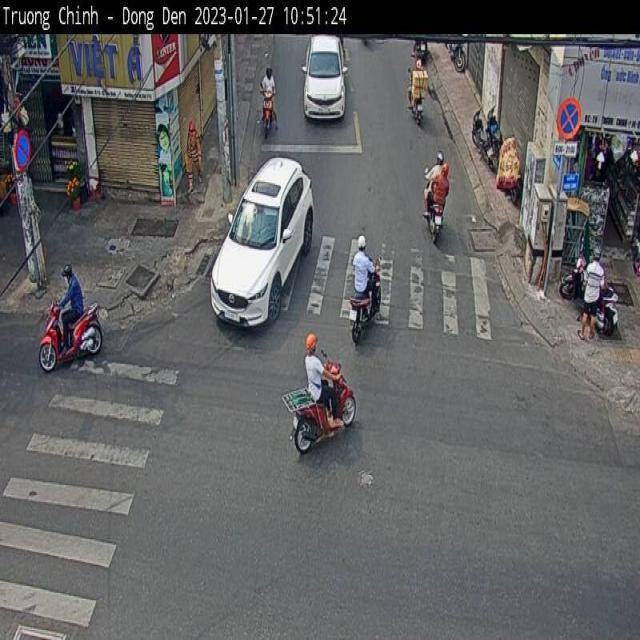helmet: (57, 262, 82, 287), (353, 222, 371, 254), (434, 142, 454, 169), (300, 328, 320, 354), (264, 57, 279, 86)
